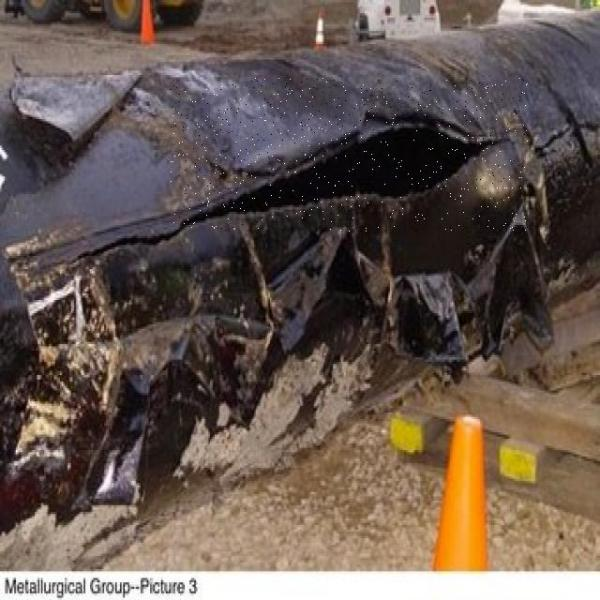crack: (241, 38, 466, 230)
